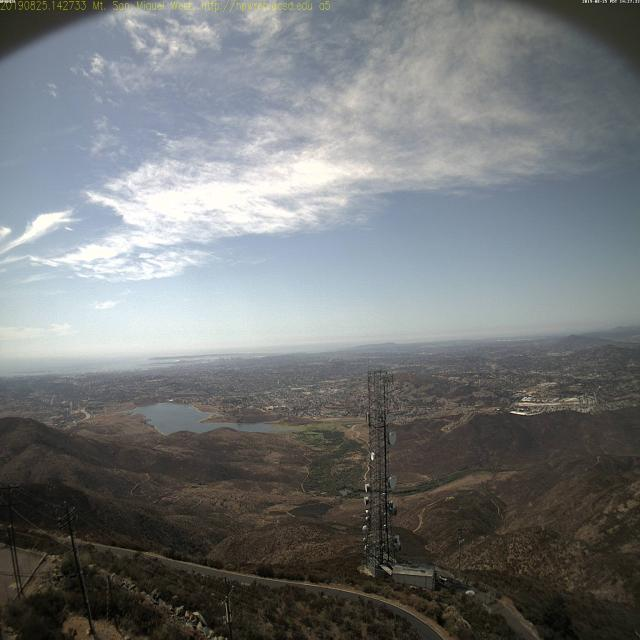smoke: (324, 352, 338, 366)
